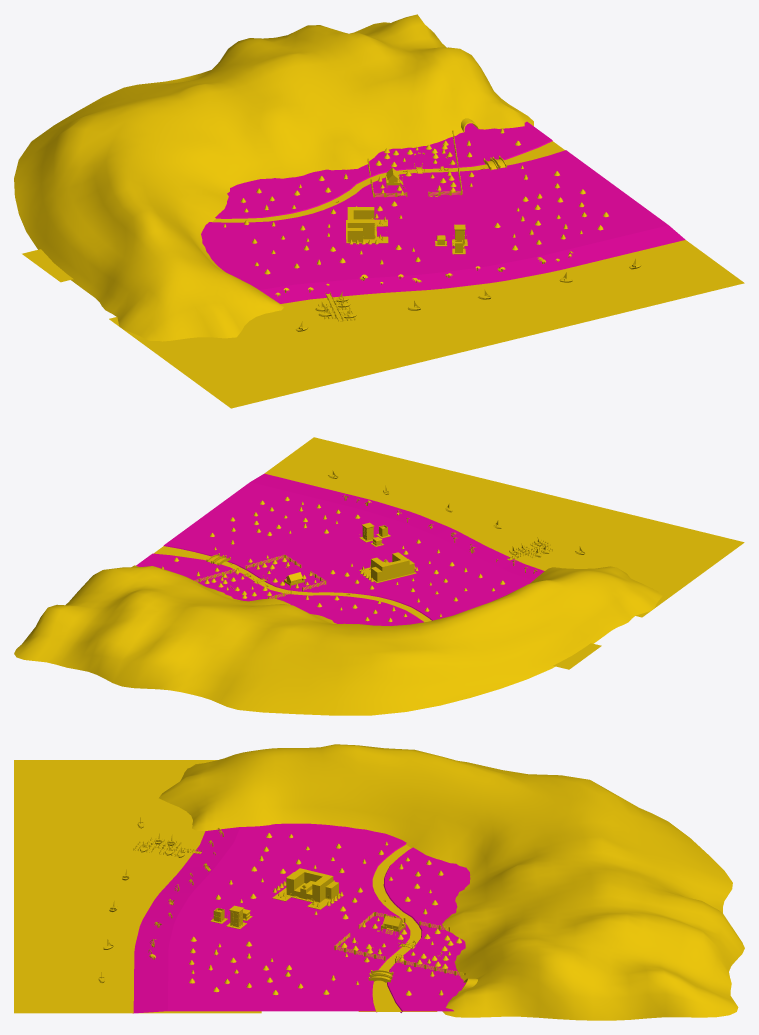
The model's file is MapaconPropsDEFINITIVO.fbx.
The picture shows the model from 3 angles, top to bottom: view 1: azimuth 30°, elevation 25°; view 2: azimuth 150°, elevation 25°; view 3: azimuth 270°, elevation 25°; orthographic projection. The views are drawn at different scales.
Visible parts, largest first — view 1: Plane, mapa, Plane.001, Plane.002, HospitalLOW; view 2: Plane, mapa, Plane.001, Plane.002, HospitalLOW; view 3: Plane, mapa, Plane.001, Plane.002, HospitalLOW.
Boxes of the visible parts, x1,y1,x2,y2 form: Plane: (14, 14, 533, 341); mapa: (201, 121, 685, 303); Plane.001: (109, 240, 744, 408); Plane.002: (22, 141, 564, 282); HospitalLOW: (346, 207, 388, 243); Plane: (14, 565, 662, 715); mapa: (136, 473, 544, 625); Plane.001: (264, 437, 744, 617); Plane.002: (153, 546, 601, 669); HospitalLOW: (359, 552, 416, 583); Plane: (159, 744, 744, 1020); mapa: (133, 823, 470, 1013); Plane.001: (14, 760, 261, 1013); Plane.002: (358, 845, 437, 1011); HospitalLOW: (272, 868, 340, 909).
Bounding box in the file's own units: 160 × 15.99 × 190.
